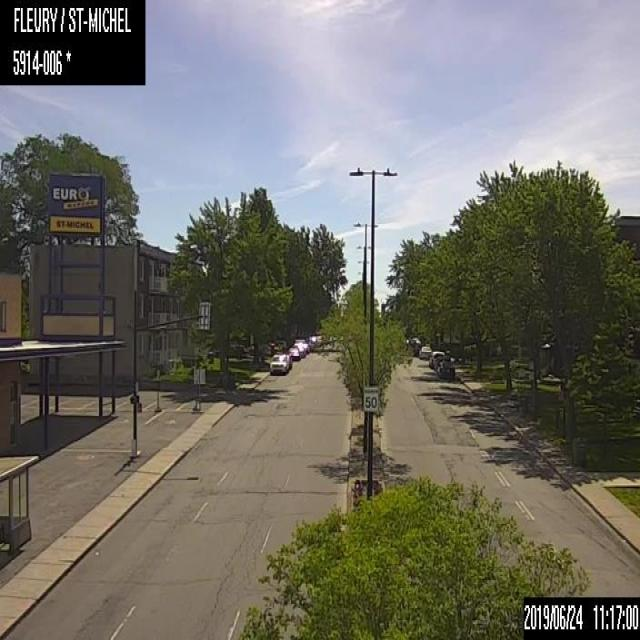vehicle: (268, 349, 290, 373), (429, 350, 446, 370), (437, 360, 455, 377), (288, 344, 302, 361), (418, 343, 432, 359)
